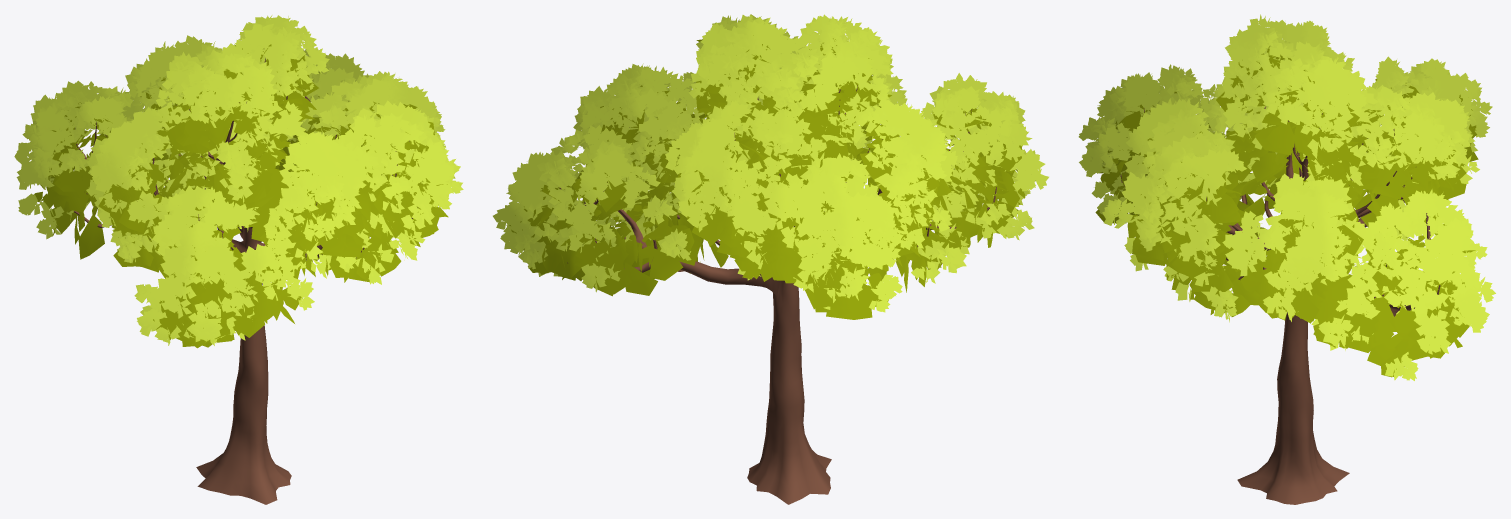
File: tree_green.fbx
3 views of the same model, side by side, from view 1: azimuth 30°, elevation 25°; view 2: azimuth 150°, elevation 25°; view 3: azimuth 270°, elevation 25° (orthographic). The views are drawn at different scales.
Visible parts, largest first — view 1: tree_green; view 2: tree_green; view 3: tree_green.
Boxes of the visible parts, x1,y1,x2,y2 form: tree_green: (14, 15, 463, 504); tree_green: (493, 14, 1048, 504); tree_green: (1078, 14, 1495, 504).
Bounding box in the file's own units: 5.2 × 4.78 × 5.65.
